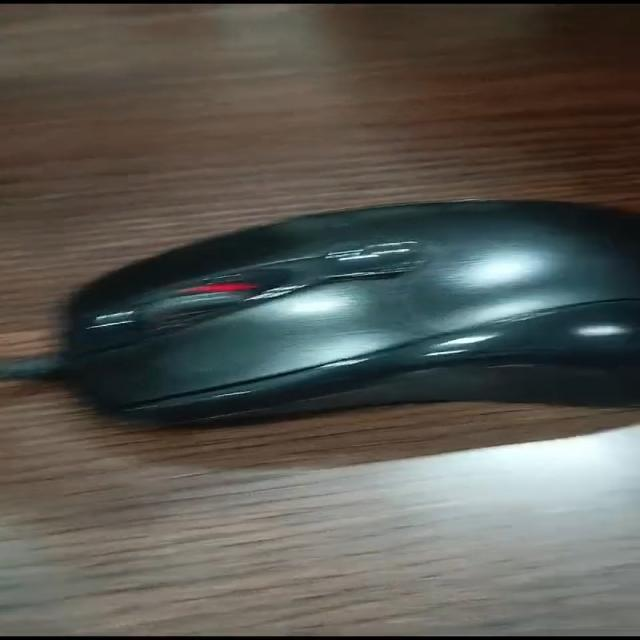mouse: (27, 171, 640, 467)
